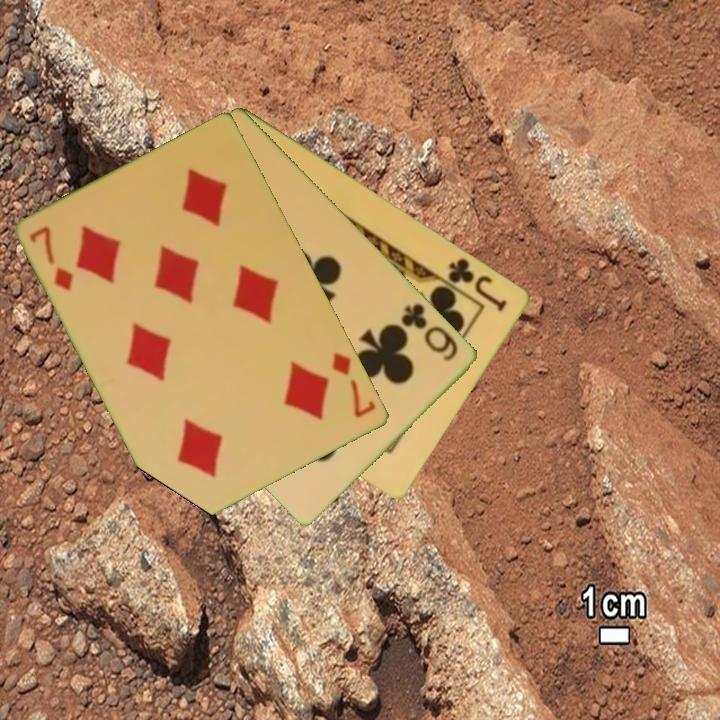6c: (398, 299, 462, 364)
7d: (26, 222, 77, 294), (329, 348, 379, 421)
Jc: (445, 254, 511, 314)
